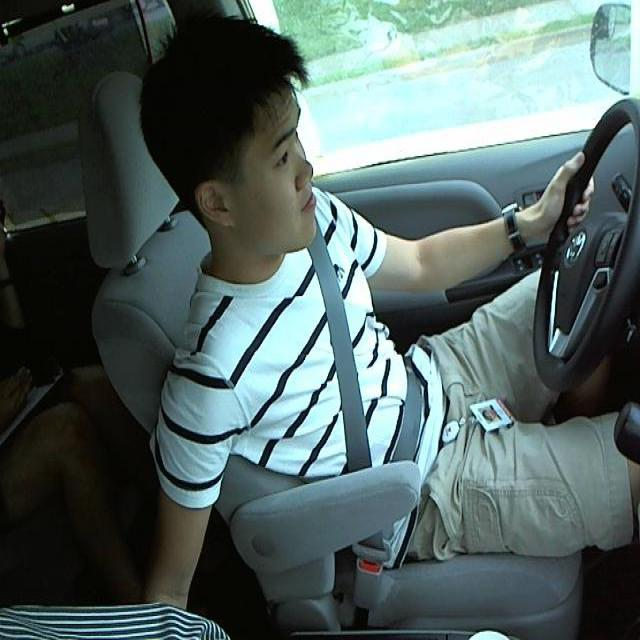seatbelt: (298, 247, 428, 470)
